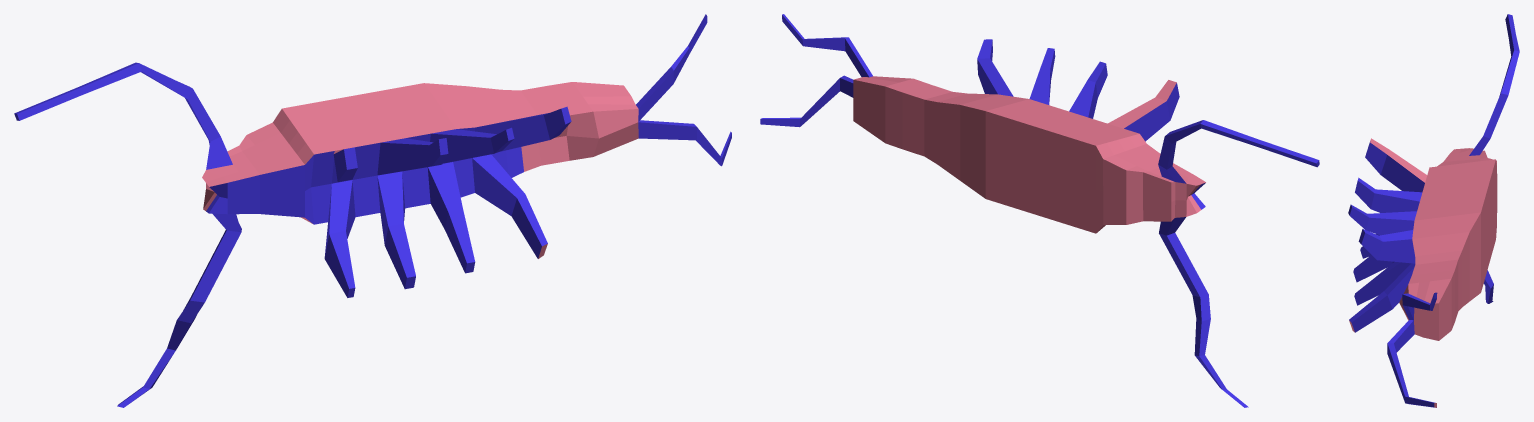
Rendered from silverfihconsturction (1).fbx.
The picture shows the model from 3 angles, left to right: view 1: azimuth 30°, elevation 25°; view 2: azimuth 150°, elevation 25°; view 3: azimuth 270°, elevation 25°; orthographic projection. The views are drawn at different scales.
Visible parts, largest first — view 1: Cube; view 2: Cube; view 3: Cube.
Boxes of the visible parts, x1,y1,x2,y2 form: Cube: [14, 14, 731, 407]; Cube: [760, 14, 1319, 407]; Cube: [1348, 14, 1519, 407].
Size of the model in its own units: 647 by 300 by 176.
